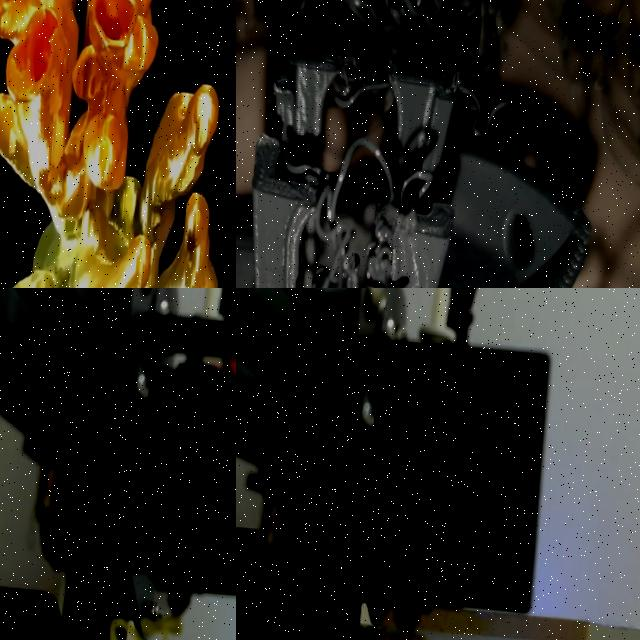spaghetti: (259, 56, 427, 288), (236, 0, 547, 101), (374, 608, 425, 640)
